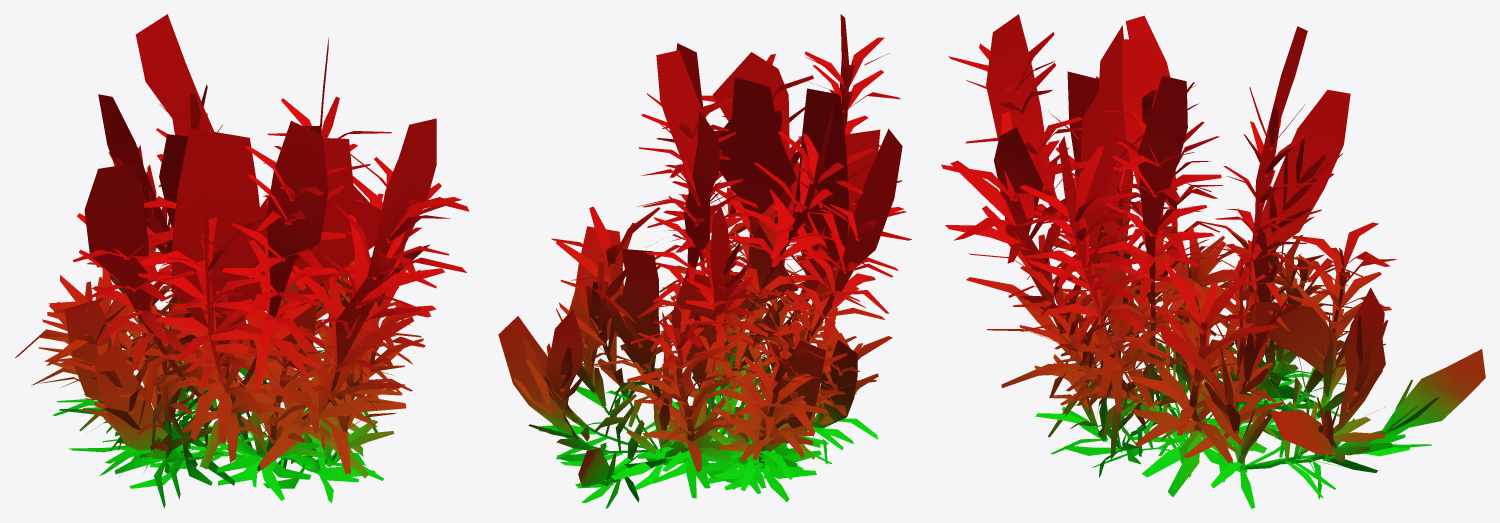
Rendered from Var5_LOD5.fbx.
3 renders of one model, left to right at view 1: azimuth 30°, elevation 25°; view 2: azimuth 150°, elevation 25°; view 3: azimuth 270°, elevation 25°, orthographic. The views are drawn at different scales.
Parts seen in each view (by area): view 1: _xgoy_Var5_LOD5; view 2: _xgoy_Var5_LOD5; view 3: _xgoy_Var5_LOD5.
Boxes of the visible parts, x1,y1,x2,y2 form: _xgoy_Var5_LOD5: [15, 14, 469, 508]; _xgoy_Var5_LOD5: [498, 14, 911, 508]; _xgoy_Var5_LOD5: [941, 14, 1485, 508].
Size of the model in its own units: 27.88 by 29.33 by 34.04.
